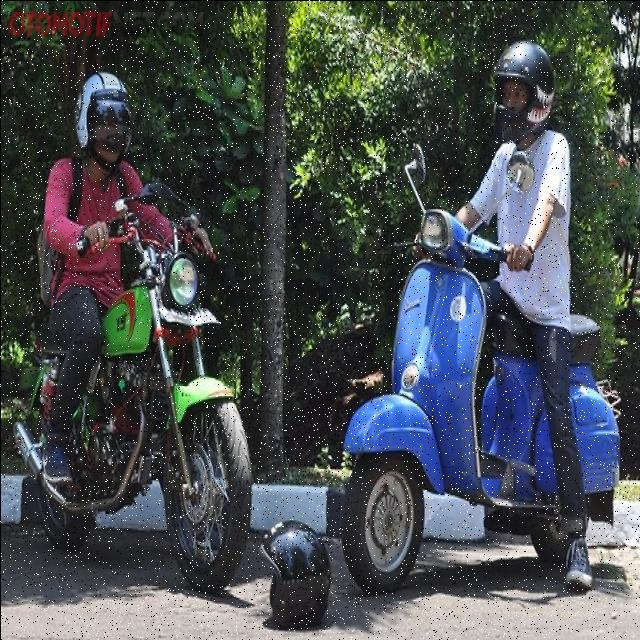Helmet: (259, 521, 330, 625), (494, 41, 552, 141), (75, 72, 132, 169)
